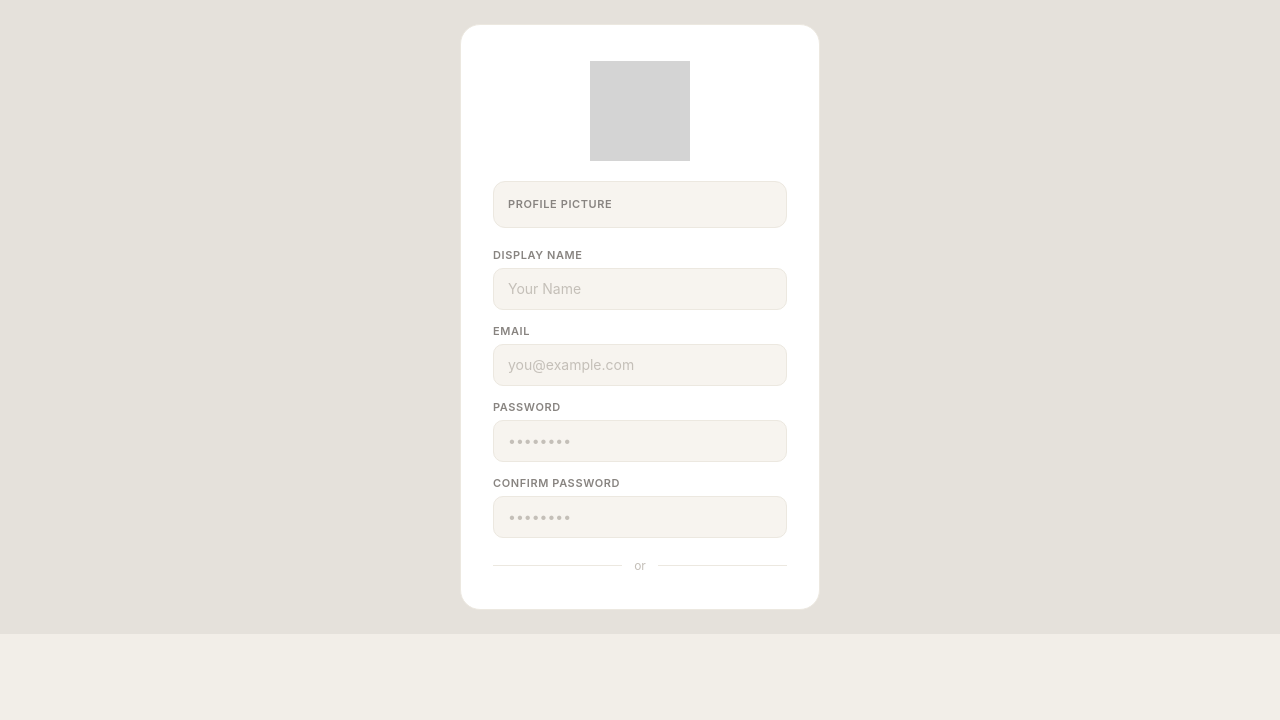
RegisterPage › shows error when password is fewer than 8 characters after blur
In the password field labelled "Password": (640, 440) top-left (493, 420), bottom-right (787, 462), type "short"
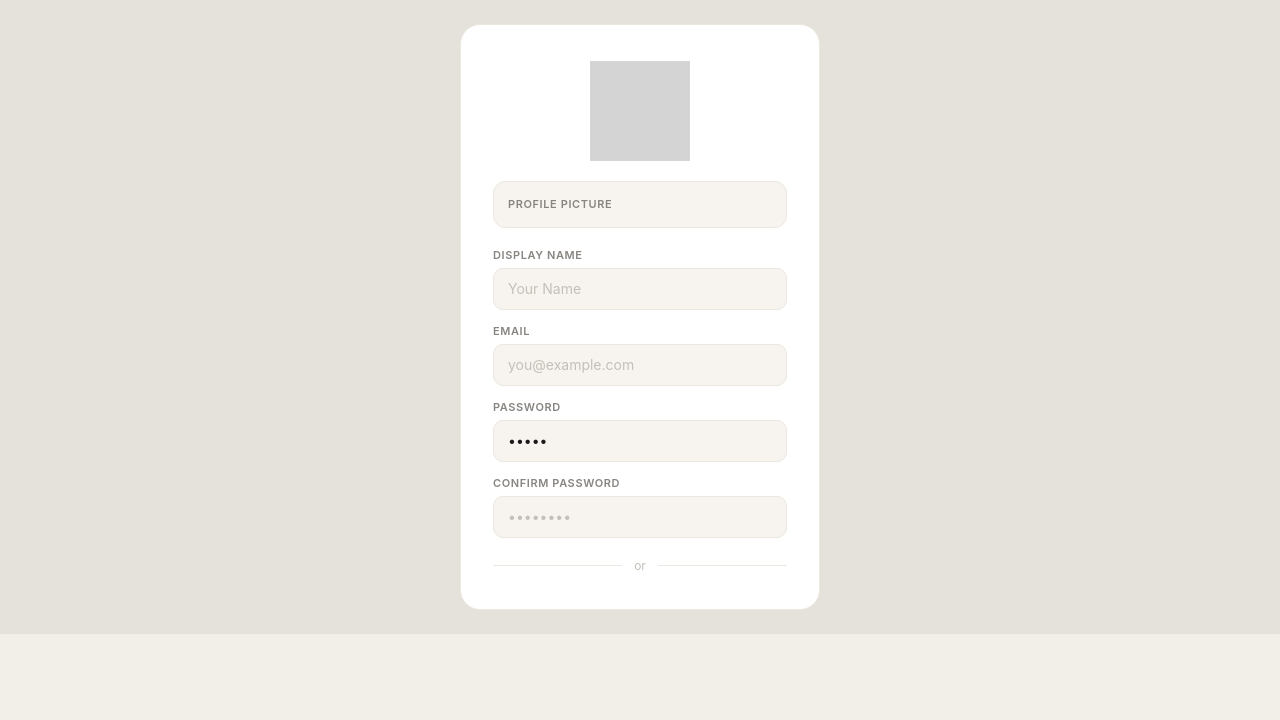
Leave the password field labelled "Password", box top-left (493, 420), bottom-right (787, 462)
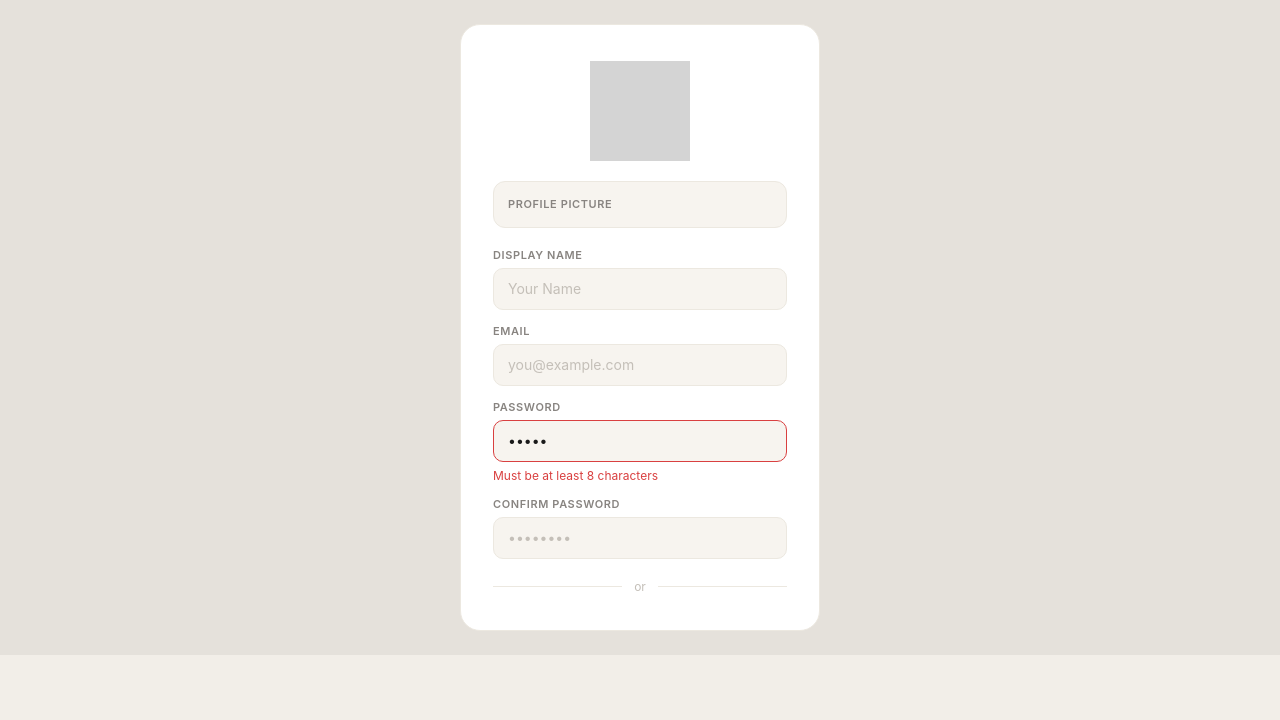
Now the text "Must be at least 8 characters" is shown, box top-left (493, 468), bottom-right (658, 482)
